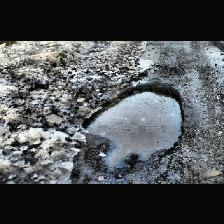pothole: (78, 83, 186, 167), (27, 82, 49, 96), (43, 112, 65, 122)
